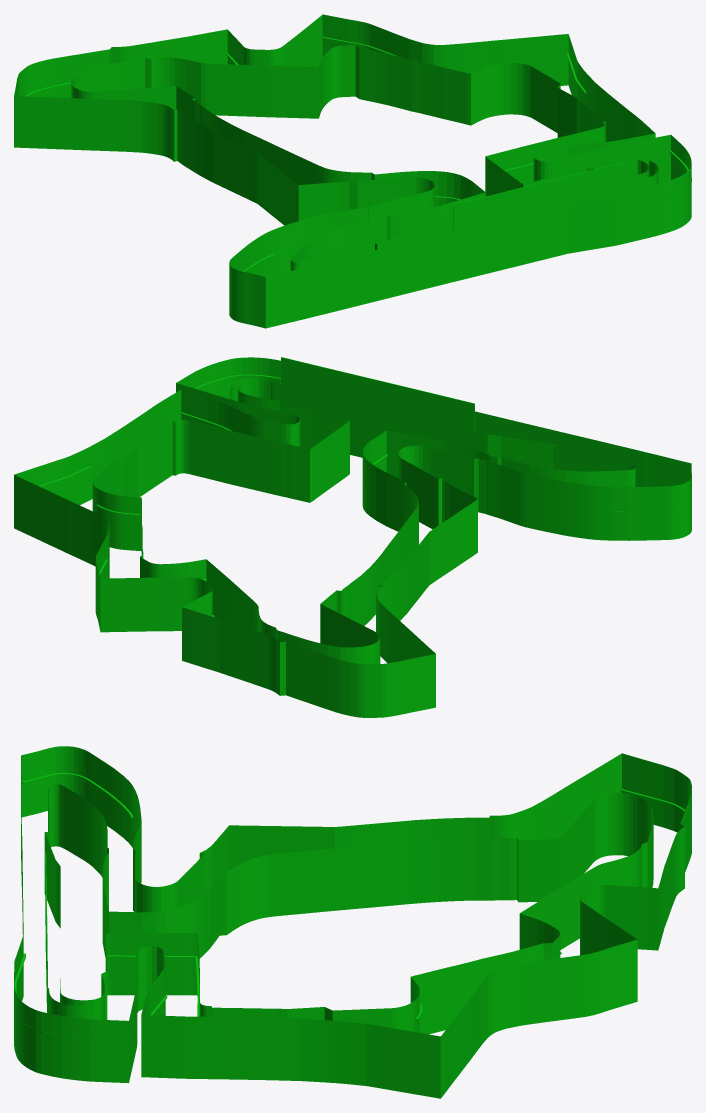
The model's file is BUDAPEST_COLLIDERS.fbx.
3 views of the same model, one above another, from view 1: azimuth 30°, elevation 25°; view 2: azimuth 150°, elevation 25°; view 3: azimuth 270°, elevation 25° (orthographic). The views are drawn at different scales.
Parts seen in each view (by area): view 1: COLLIDER_OUTSIDE, COLLIDER_INSIDE, COLLIDER_PITWALL, COLLIDERS_TYREBLOCKS; view 2: COLLIDER_OUTSIDE, COLLIDER_INSIDE, COLLIDER_PITWALL, COLLIDERS_TYREBLOCKS; view 3: COLLIDER_OUTSIDE, COLLIDER_INSIDE, COLLIDERS_TYREBLOCKS, COLLIDER_PITENTRY.
Part boxes in pixels (<box>): COLLIDER_OUTSIDE: <box>14,14,691,328</box>; COLLIDER_INSIDE: <box>71,45,648,270</box>; COLLIDER_PITWALL: <box>453,159,637,230</box>; COLLIDERS_TYREBLOCKS: <box>25,37,691,298</box>; COLLIDER_OUTSIDE: <box>14,357,691,717</box>; COLLIDER_INSIDE: <box>92,379,635,664</box>; COLLIDER_PITWALL: <box>281,357,474,431</box>; COLLIDERS_TYREBLOCKS: <box>39,374,691,694</box>; COLLIDER_OUTSIDE: <box>14,746,691,1098</box>; COLLIDER_INSIDE: <box>44,784,653,1034</box>; COLLIDERS_TYREBLOCKS: <box>14,773,691,1041</box>; COLLIDER_PITENTRY: <box>47,988,91,1019</box>.
Bounding box in the file's own units: 19673 × 2764 × 19418.
